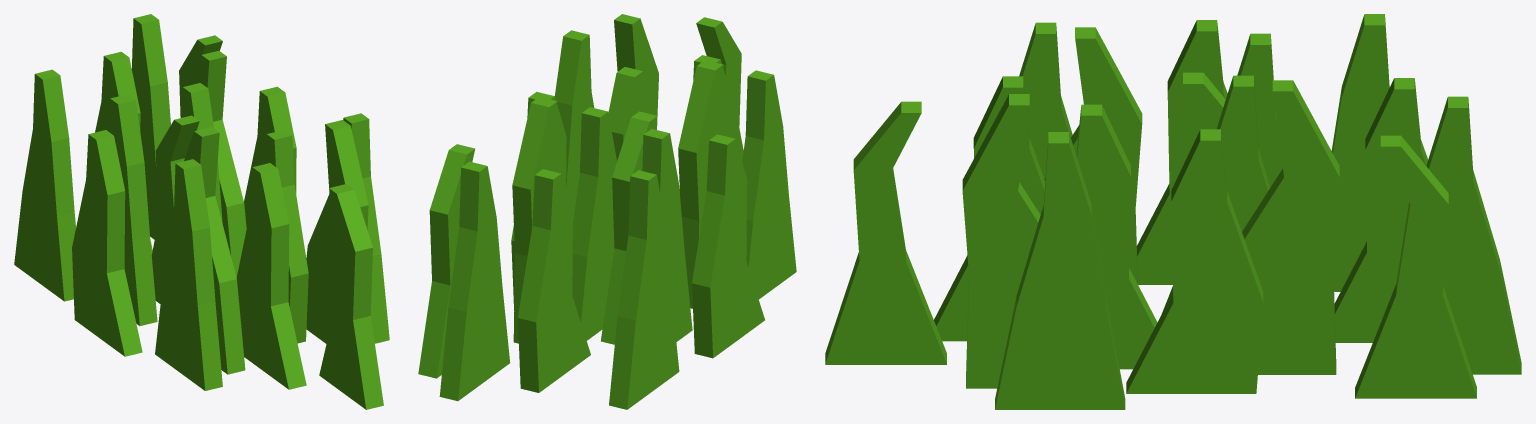
File: Grass_e_03.fbx
3 renders of one model, left to right at view 1: azimuth 30°, elevation 25°; view 2: azimuth 150°, elevation 25°; view 3: azimuth 270°, elevation 25°, orthographic. The views are drawn at different scales.
Visible parts, largest first — view 1: Grass_e_03; view 2: Grass_e_03; view 3: Grass_e_03.
Part boxes in pixels (x1,y1,x2,y2): Grass_e_03: (14,14,389,409); Grass_e_03: (418,14,796,409); Grass_e_03: (825,14,1521,409).
Size of the model in its own units: 4.99 by 4.84 by 10.78.
